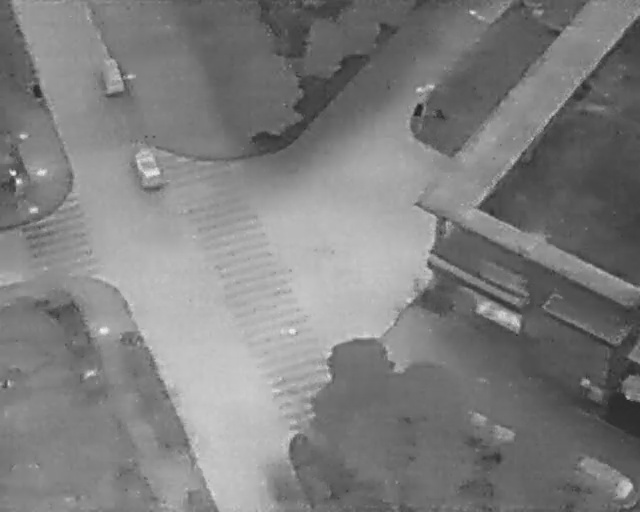Car: (127, 139, 168, 192), (95, 57, 125, 96)
